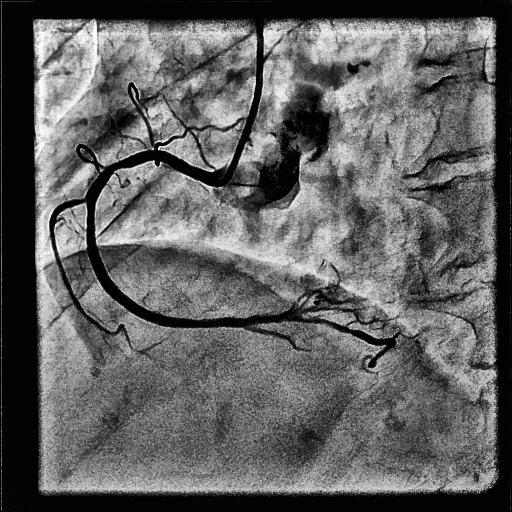pda: (292, 314, 396, 368)
rca: (86, 150, 293, 328)
